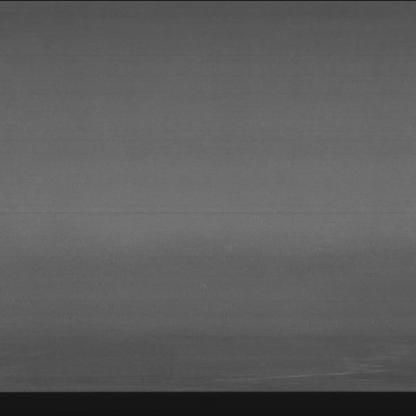silk_spot: (166, 366, 319, 387), (325, 351, 411, 382)
